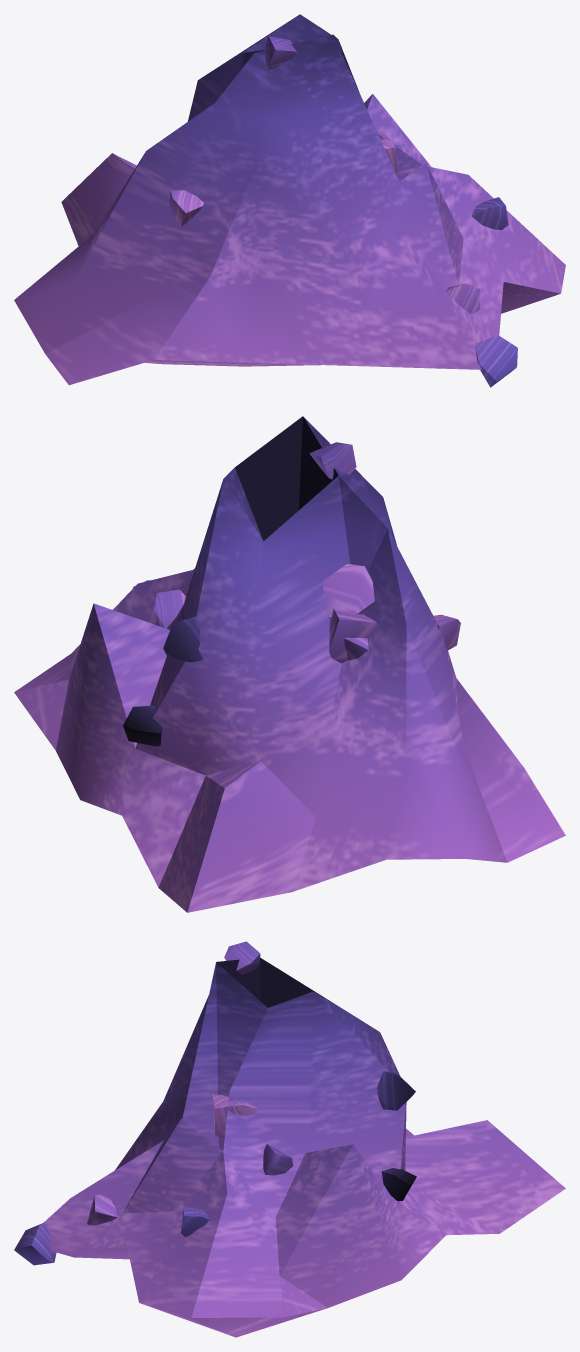
Rendered from PURPLE_vent.fbx.
3 renders of one model, top to bottom at view 1: azimuth 30°, elevation 25°; view 2: azimuth 150°, elevation 25°; view 3: azimuth 270°, elevation 25°, orthographic. The views are drawn at different scales.
Visible parts, largest first — view 1: PURPLE vent; view 2: PURPLE vent; view 3: PURPLE vent.
Part boxes in pixels (<box>): PURPLE vent: <box>14,14,565,387</box>; PURPLE vent: <box>14,416,565,912</box>; PURPLE vent: <box>14,941,565,1337</box>.
Size of the model in its own units: 106098 by 70167 by 115611.
